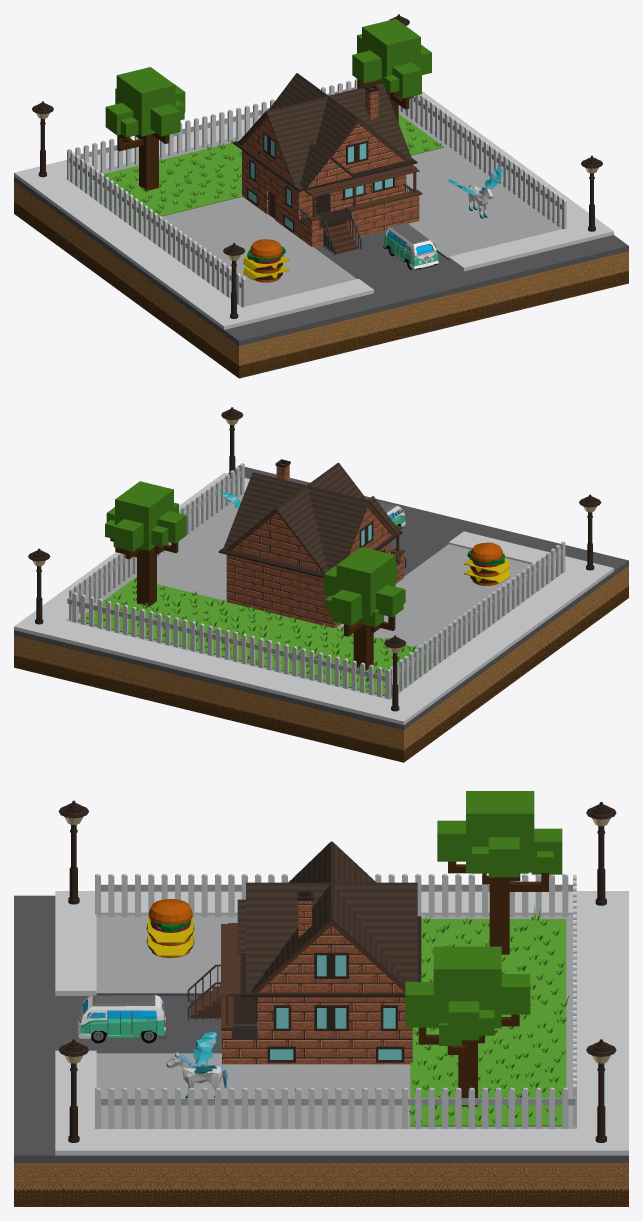
3 renders of one model, top to bottom at view 1: azimuth 30°, elevation 25°; view 2: azimuth 150°, elevation 25°; view 3: azimuth 270°, elevation 25°, orthographic. The views are drawn at different scales.
Parts seen in each view (by area): view 1: Cube.004, Cube.469, VEHICLES_VAN, OBJRANDOM_HAMBURGER, ANIMAL_PEGASO; view 2: Cube.004, Cube.469, OBJRANDOM_HAMBURGER; view 3: Cube.004, Cube.469, VEHICLES_VAN, OBJRANDOM_HAMBURGER, ANIMAL_PEGASO.
Boxes of the visible parts, x1=… form: Cube.004: x1=14, y1=14, x2=628, y2=378; Cube.469: x1=233, y1=73, x2=422, y2=255; VEHICLES_VAN: x1=383, y1=223, x2=438, y2=270; OBJRANDOM_HAMBURGER: x1=243, y1=239, x2=289, y2=282; ANIMAL_PEGASO: x1=448, y1=167, x2=502, y2=218; Cube.004: x1=14, y1=407, x2=628, y2=762; Cube.469: x1=218, y1=459, x2=406, y2=627; OBJRANDOM_HAMBURGER: x1=464, y1=542, x2=509, y2=585; Cube.004: x1=14, y1=791, x2=628, y2=1206; Cube.469: x1=187, y1=841, x2=421, y2=1064; VEHICLES_VAN: x1=78, y1=994, x2=166, y2=1043; OBJRANDOM_HAMBURGER: x1=146, y1=898, x2=194, y2=957; ANIMAL_PEGASO: x1=166, y1=1031, x2=227, y2=1098.
Size of the model in its own units: 4000 by 1617 by 4000.
38 materials, 4 textured.
